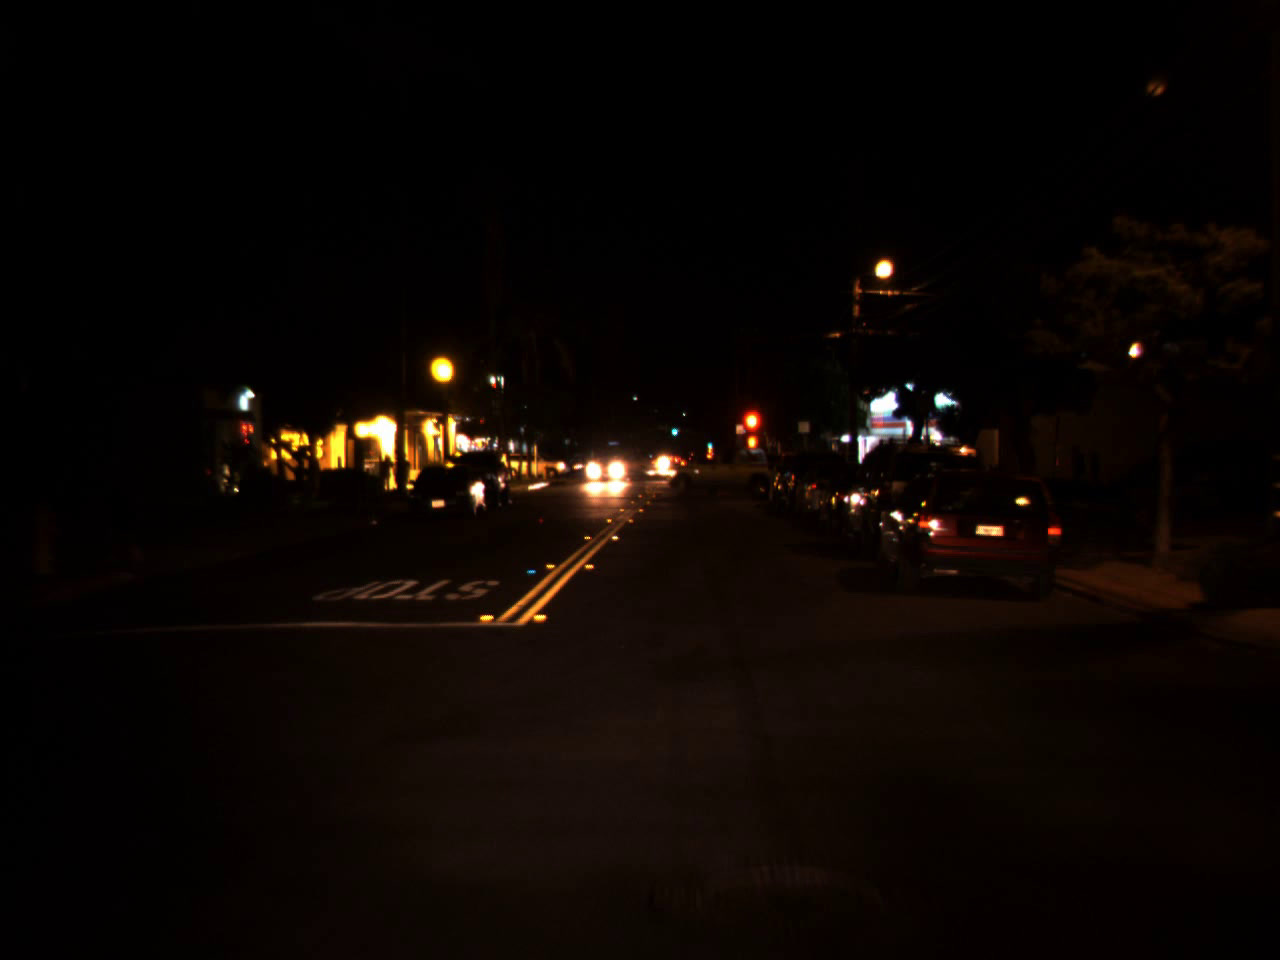go: (669, 421, 678, 436), (704, 434, 713, 449)
stop: (738, 407, 763, 461)
